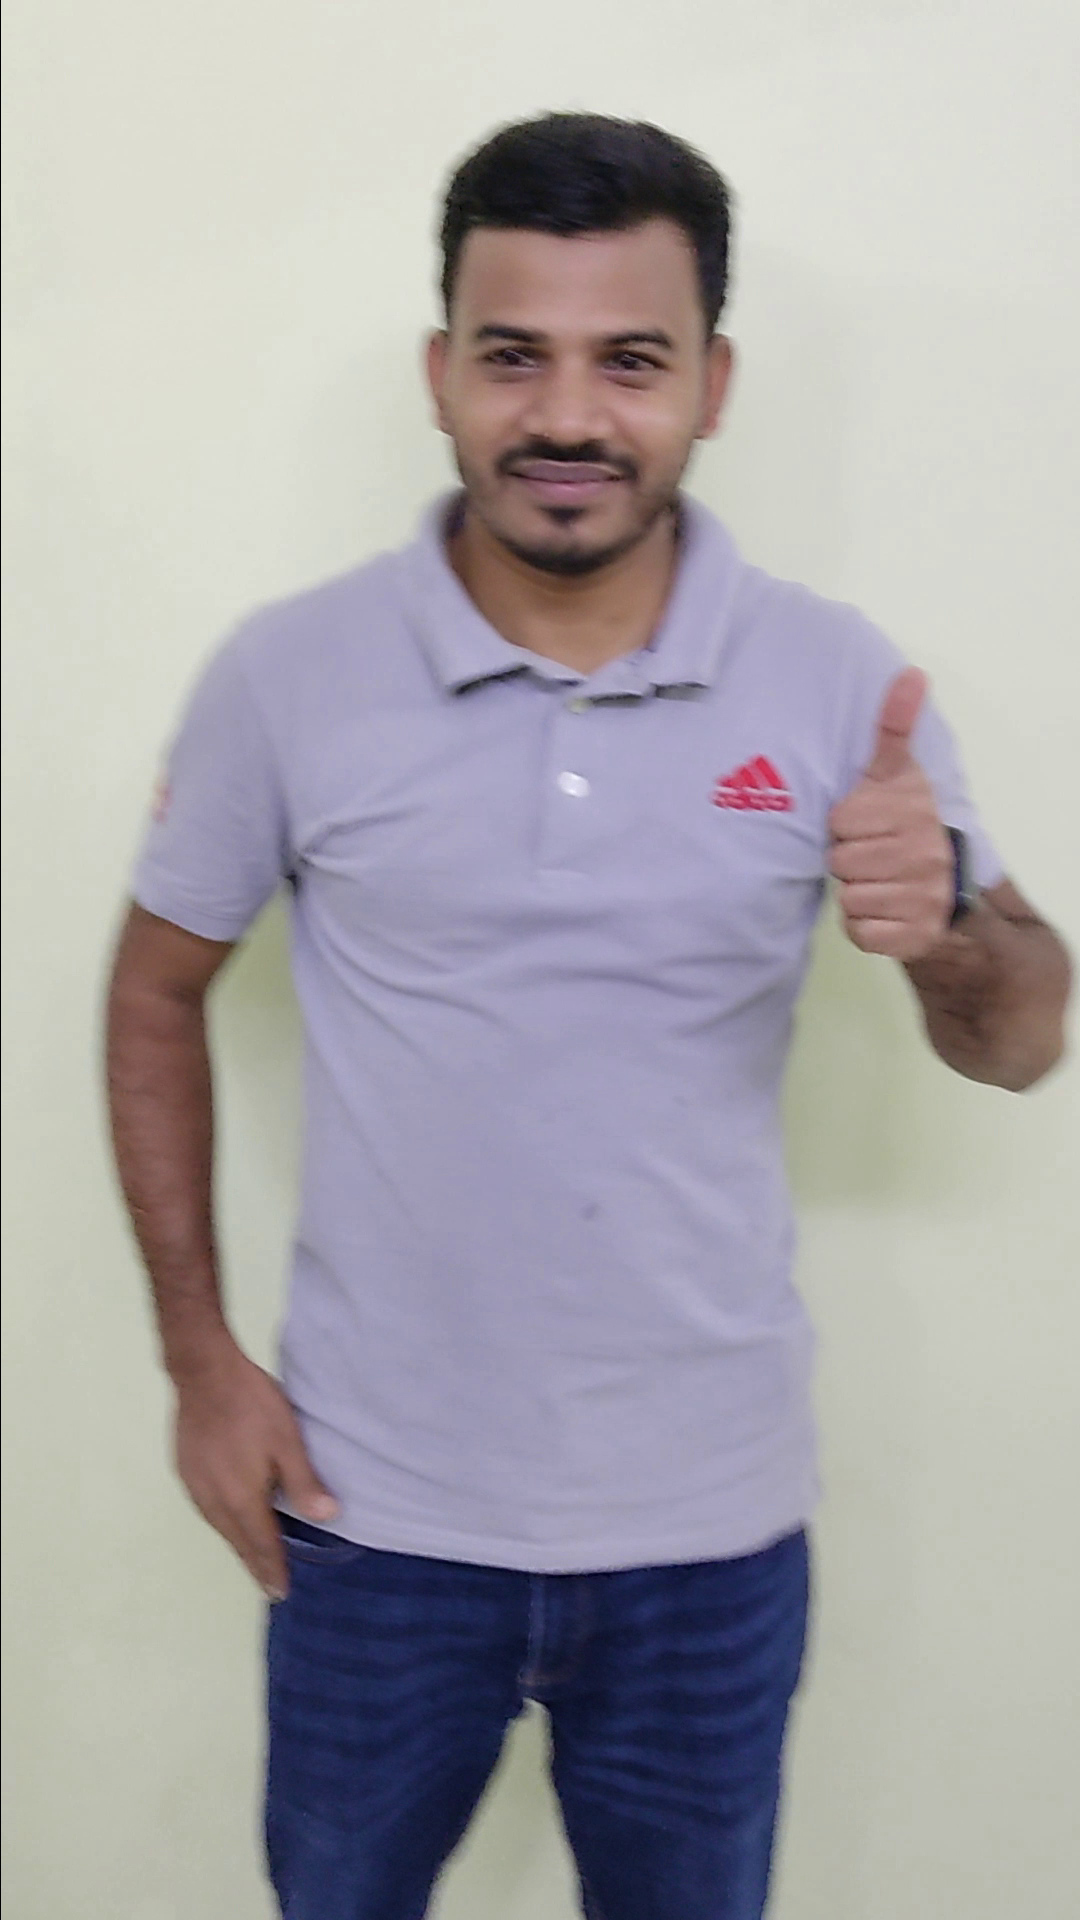Like: (778, 650, 996, 976)
None: (142, 1329, 352, 1619)
